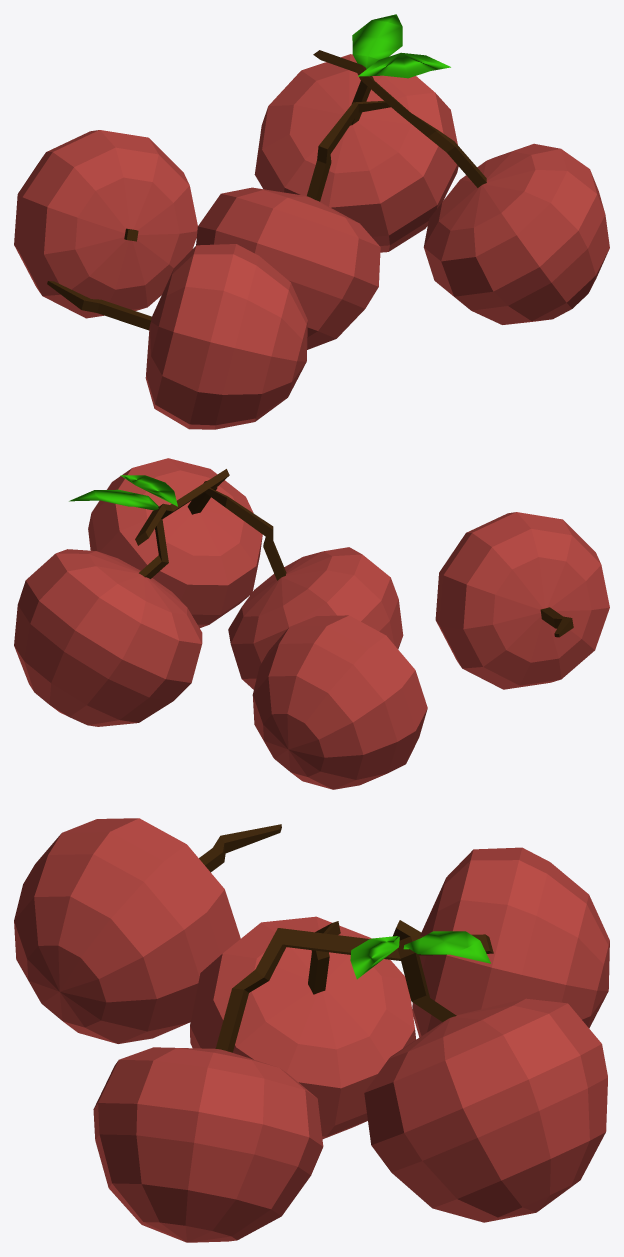
File: Fruit.fbx
The picture shows the model from 3 angles, top to bottom: view 1: azimuth 30°, elevation 25°; view 2: azimuth 150°, elevation 25°; view 3: azimuth 270°, elevation 25°; orthographic projection. The views are drawn at different scales.
Visible parts, largest first — view 1: 3Litchi, 1Litchi2, 1Litchi1; view 2: 3Litchi, 1Litchi1, 1Litchi2; view 3: 3Litchi, 1Litchi1, 1Litchi2.
Boxes of the visible parts, x1,y1,x2,y2 form: 3Litchi: (196,14,609,349); 1Litchi2: (14,130,197,318); 1Litchi1: (47,244,307,429); 3Litchi: (14,458,403,726); 1Litchi1: (435,512,609,689); 1Litchi2: (252,615,427,789); 3Litchi: (93,916,607,1242); 1Litchi1: (14,818,281,1043); 1Litchi2: (393,847,609,1037).
Size of the model in its own units: 17.67 by 7.59 by 14.39.
